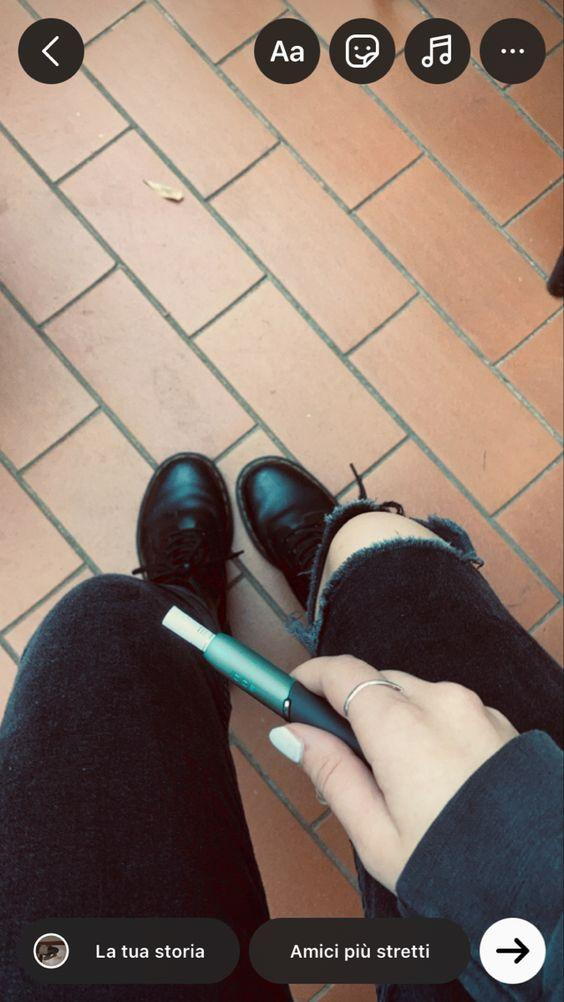iqos: (162, 606, 355, 749)
